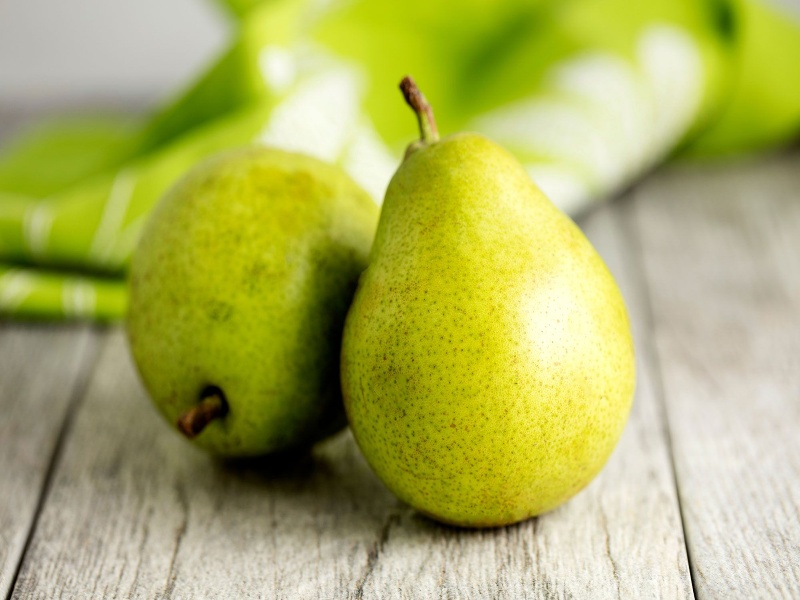Pera: (340, 74, 640, 529), (126, 145, 388, 460)
